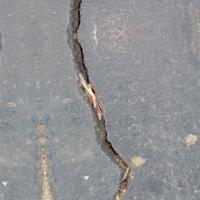crack: (65, 0, 141, 199)
